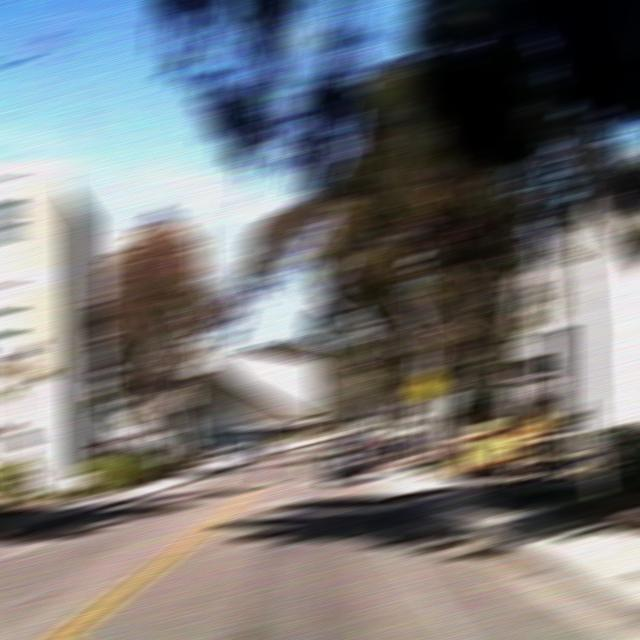pedestrianCrossing: (409, 369, 443, 402)
